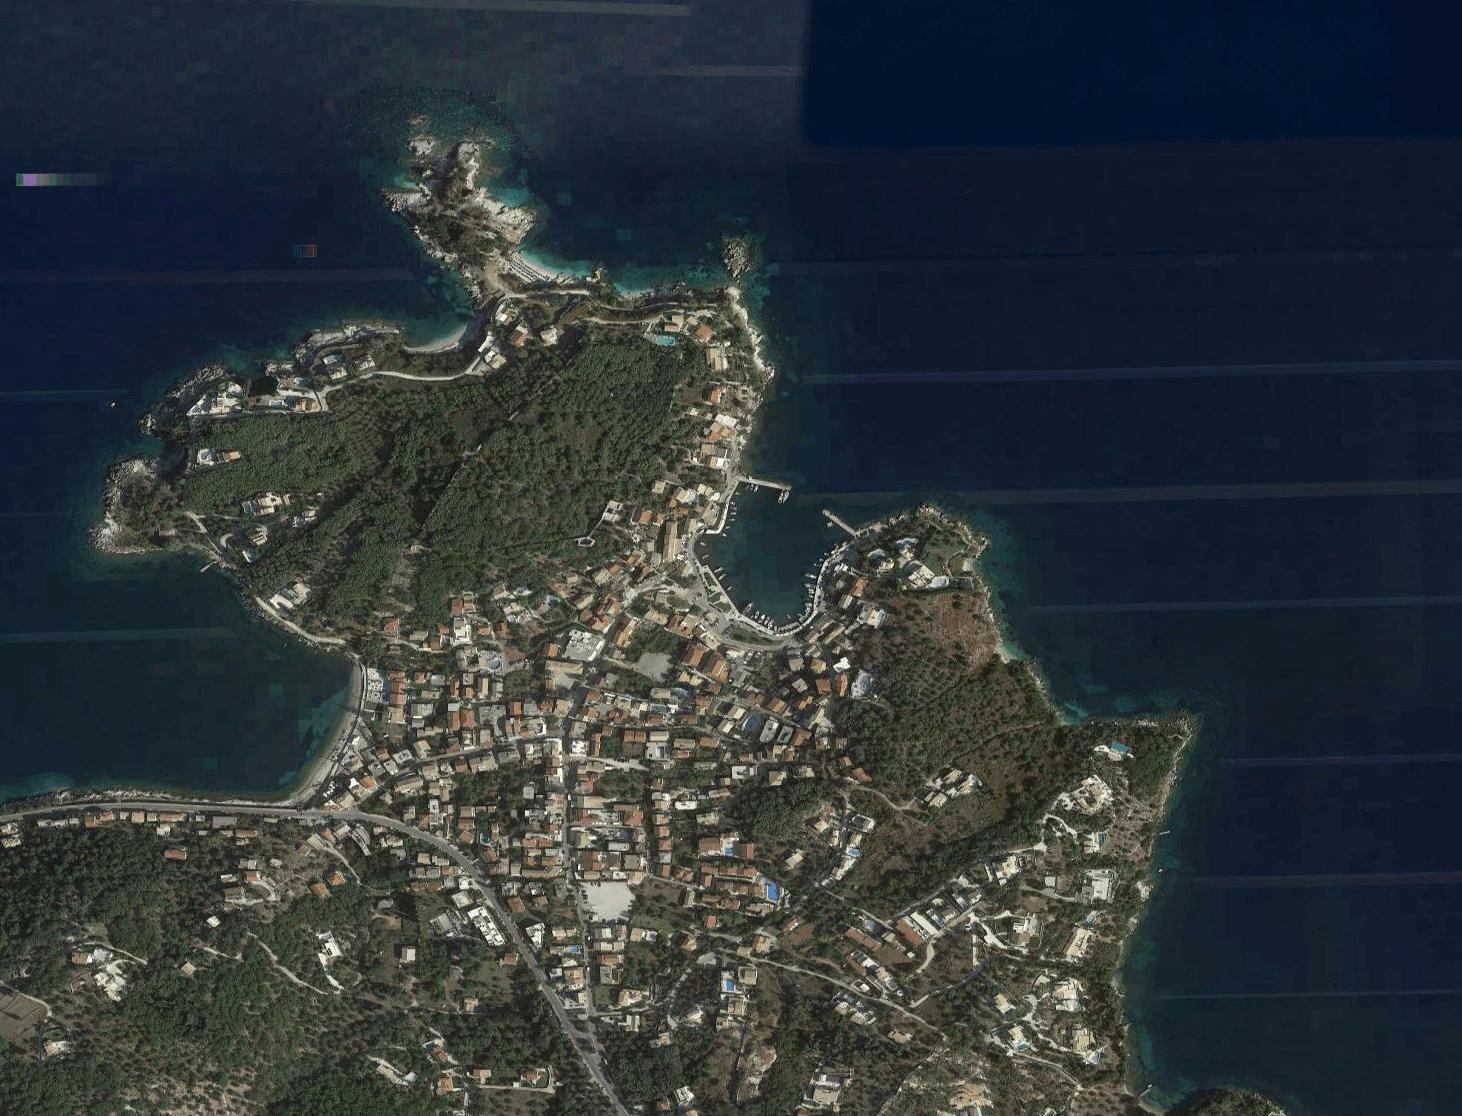harbor: (692, 445, 850, 637)
